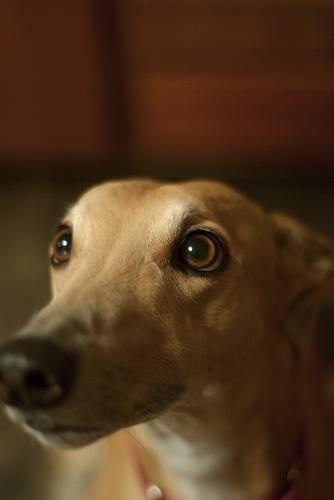dog: (2, 167, 334, 500)
